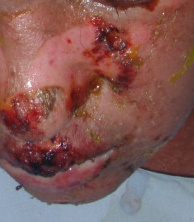SJS-TEN: (0, 0, 194, 213)
